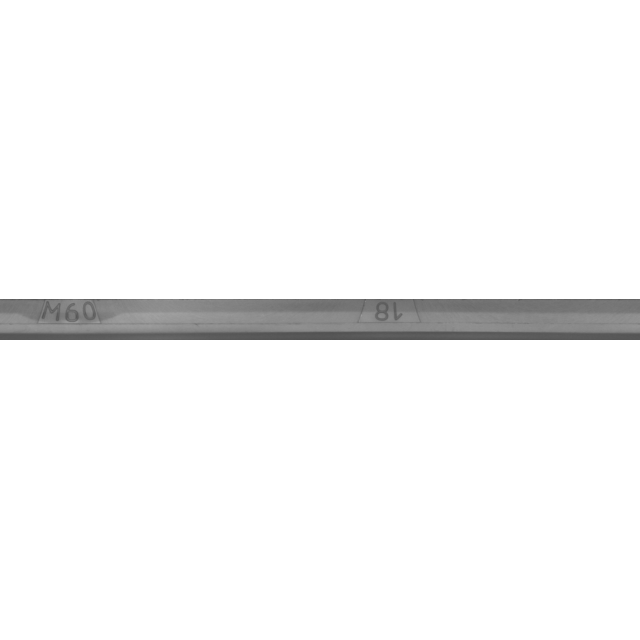mohao: (0, 270, 167, 370)
xuehao: (286, 270, 486, 370)
